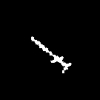double_crochet: (31, 37, 70, 72)
